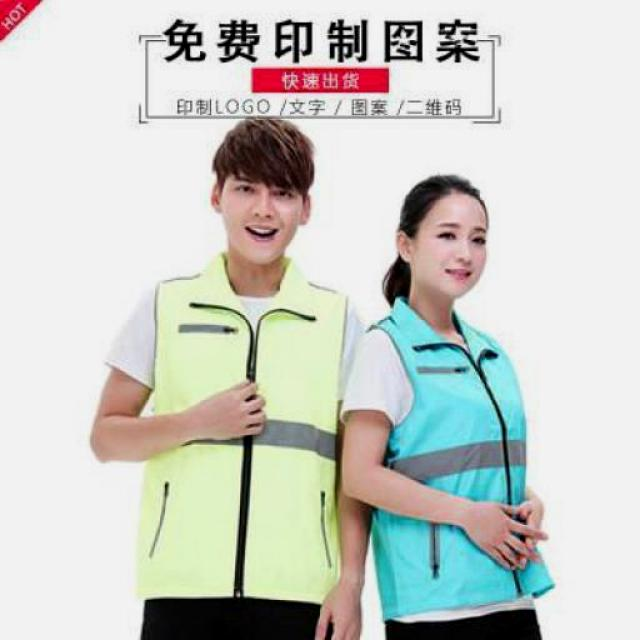face_nomask: (225, 174, 297, 251), (421, 218, 491, 292)
hand_noglove: (461, 492, 545, 577), (194, 374, 271, 448), (310, 580, 370, 640)
head_nohelmet: (205, 115, 323, 191), (392, 169, 492, 216)
person: (84, 115, 381, 640), (323, 158, 575, 640)
vest: (140, 260, 356, 620), (372, 308, 552, 612)
